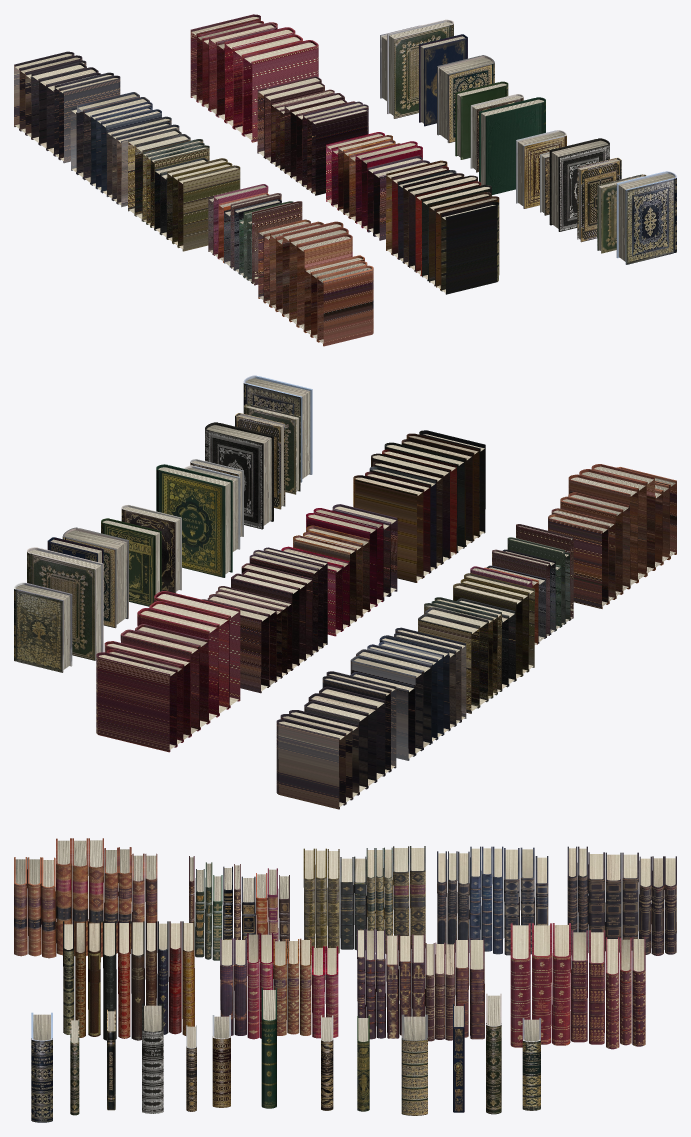
Rendered from book-3.glb.
3 renders of one model, top to bottom at view 1: azimuth 30°, elevation 25°; view 2: azimuth 150°, elevation 25°; view 3: azimuth 270°, elevation 25°, orthographic. The views are drawn at different scales.
Visible parts, largest first — view 1: Book_pack_1, Book_pack_3, Book_pack_5, Book_pack_7, Book_pack_4, Book_pack_9, Book_pack_8, Book_pack_2, Book_pack_6, Book_11, Book_9, Book_13 (+10 smaller); view 2: Book_pack_5, Book_pack_1, Book_pack_3, Book_pack_9, Book_pack_4, Book_pack_7, Book_pack_8, Book_pack_2, Book_9, Book_pack_6, Book_13, Book_12 (+10 smaller); view 3: Book_pack_5, Book_pack_1, Book_pack_3, Book_pack_4, Book_pack_7, Book_pack_2, Book_pack_8, Book_pack_9, Book_pack_6, Book_8, Book_3, Book_11 (+10 smaller).
Part boxes in pixels (x1,y1,x2,y2): Book_pack_1: [386, 160, 499, 294]; Book_pack_3: [258, 219, 373, 346]; Book_pack_5: [190, 14, 318, 142]; Book_pack_7: [128, 129, 240, 251]; Book_pack_4: [257, 76, 368, 195]; Book_pack_9: [14, 51, 120, 163]; Book_pack_8: [70, 92, 179, 207]; Book_pack_2: [326, 132, 429, 240]; Book_pack_6: [208, 184, 302, 285]; Book_11: [616, 171, 676, 264]; Book_9: [479, 97, 545, 194]; Book_13: [387, 19, 453, 118]; Book_pack_5: [96, 591, 240, 752]; Book_pack_1: [353, 430, 485, 582]; Book_pack_3: [548, 464, 676, 608]; Book_pack_9: [276, 671, 396, 809]; Book_pack_4: [201, 547, 327, 693]; Book_pack_7: [418, 573, 534, 713]; Book_pack_8: [350, 627, 466, 760]; Book_pack_2: [281, 504, 397, 636]; Book_9: [156, 464, 232, 577]; Book_pack_6: [470, 524, 573, 644]; Book_13: [27, 547, 103, 660]; Book_12: [14, 582, 72, 672]; Book_pack_5: [510, 923, 645, 1049]; Book_pack_1: [63, 921, 194, 1040]; Book_pack_3: [14, 838, 157, 958]; Book_pack_4: [357, 929, 484, 1041]; Book_pack_7: [303, 846, 425, 954]; Book_pack_2: [220, 933, 338, 1039]; Book_pack_8: [437, 846, 548, 955]; Book_pack_9: [567, 846, 676, 955]; Book_pack_6: [189, 856, 289, 960]; Book_8: [401, 1014, 427, 1115]; Book_3: [142, 1003, 163, 1113]; Book_11: [31, 1012, 52, 1122].
Size of the model in its own units: 1.39 by 0.2936 by 1.95.
Materials: 44 (44 with a texture image).
